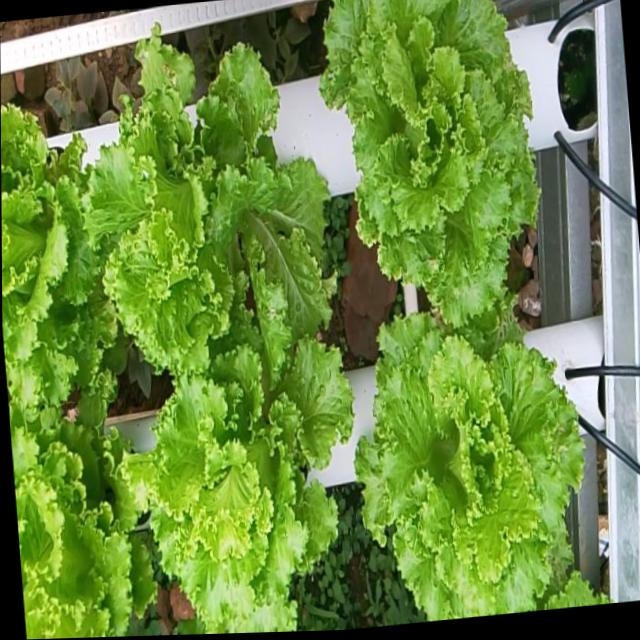Mature: (89, 34, 334, 373), (355, 309, 606, 619), (321, 0, 540, 324), (137, 316, 354, 634), (9, 401, 158, 639), (1, 102, 117, 401)
